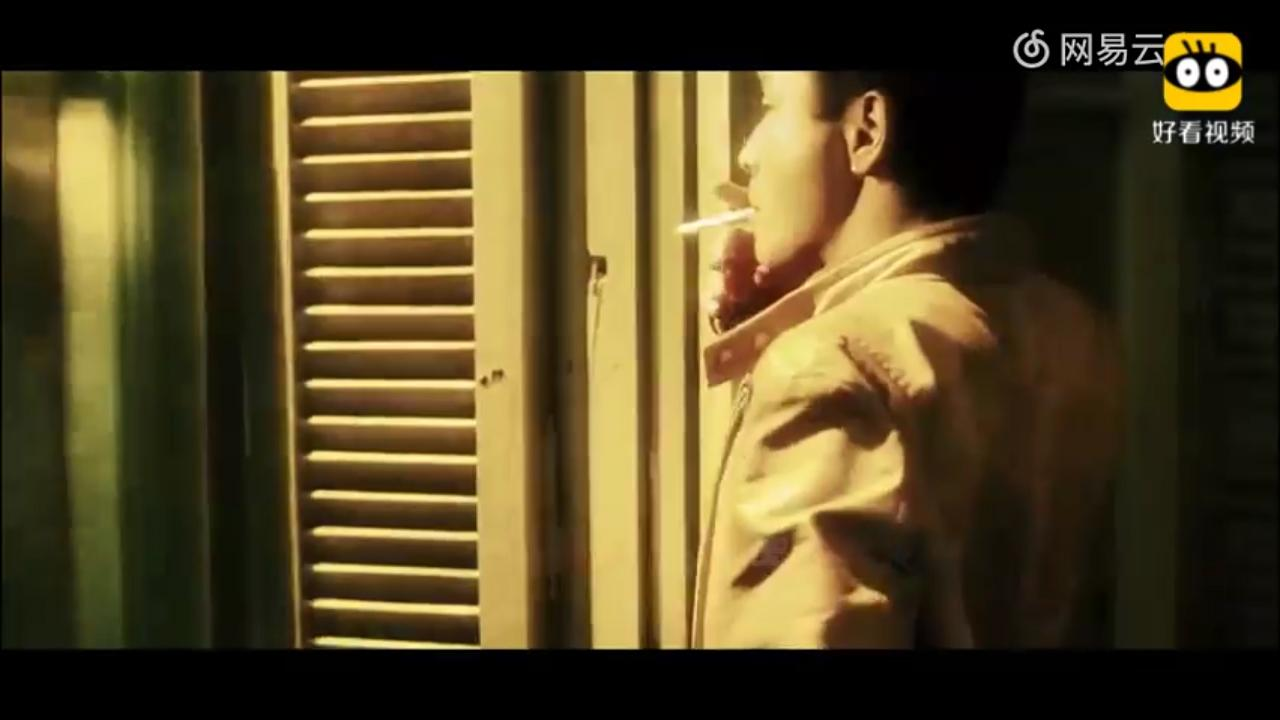Cigarette: (712, 72, 1034, 648), (678, 210, 751, 237)
